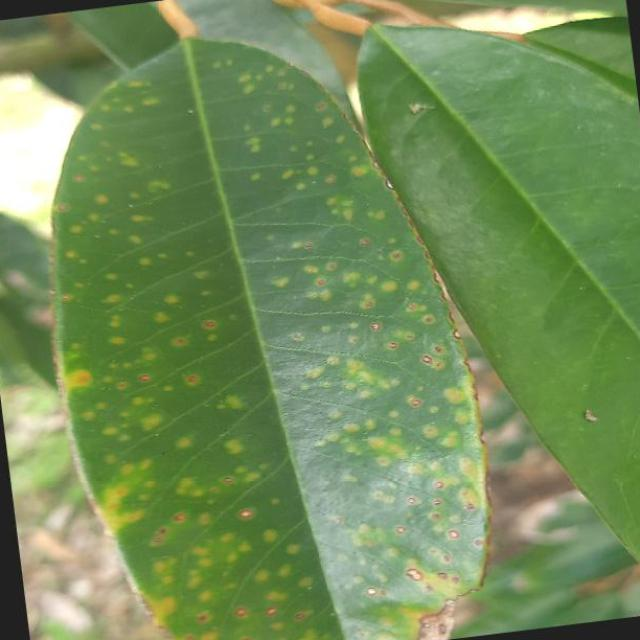Leaf Spot: (5, 0, 503, 640)
